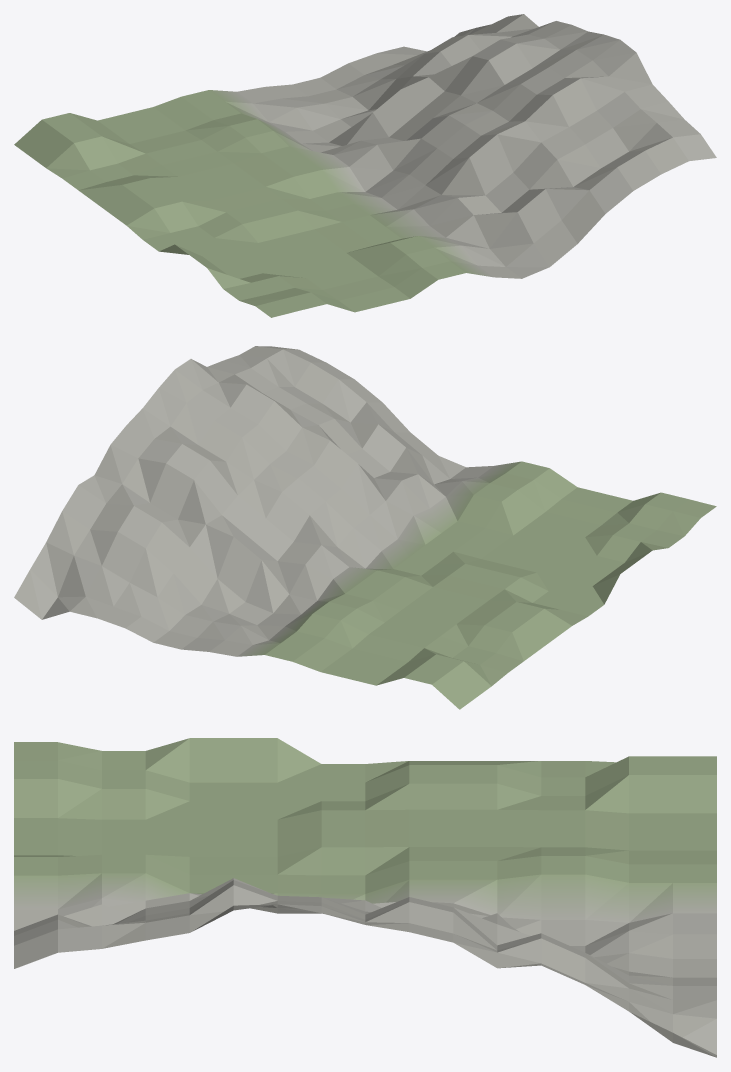
3 views of the same model, one above another, from view 1: azimuth 30°, elevation 25°; view 2: azimuth 150°, elevation 25°; view 3: azimuth 270°, elevation 25° (orthographic). The views are drawn at different scales.
Size of the model in its own units: 32 by 8.64 by 32.
